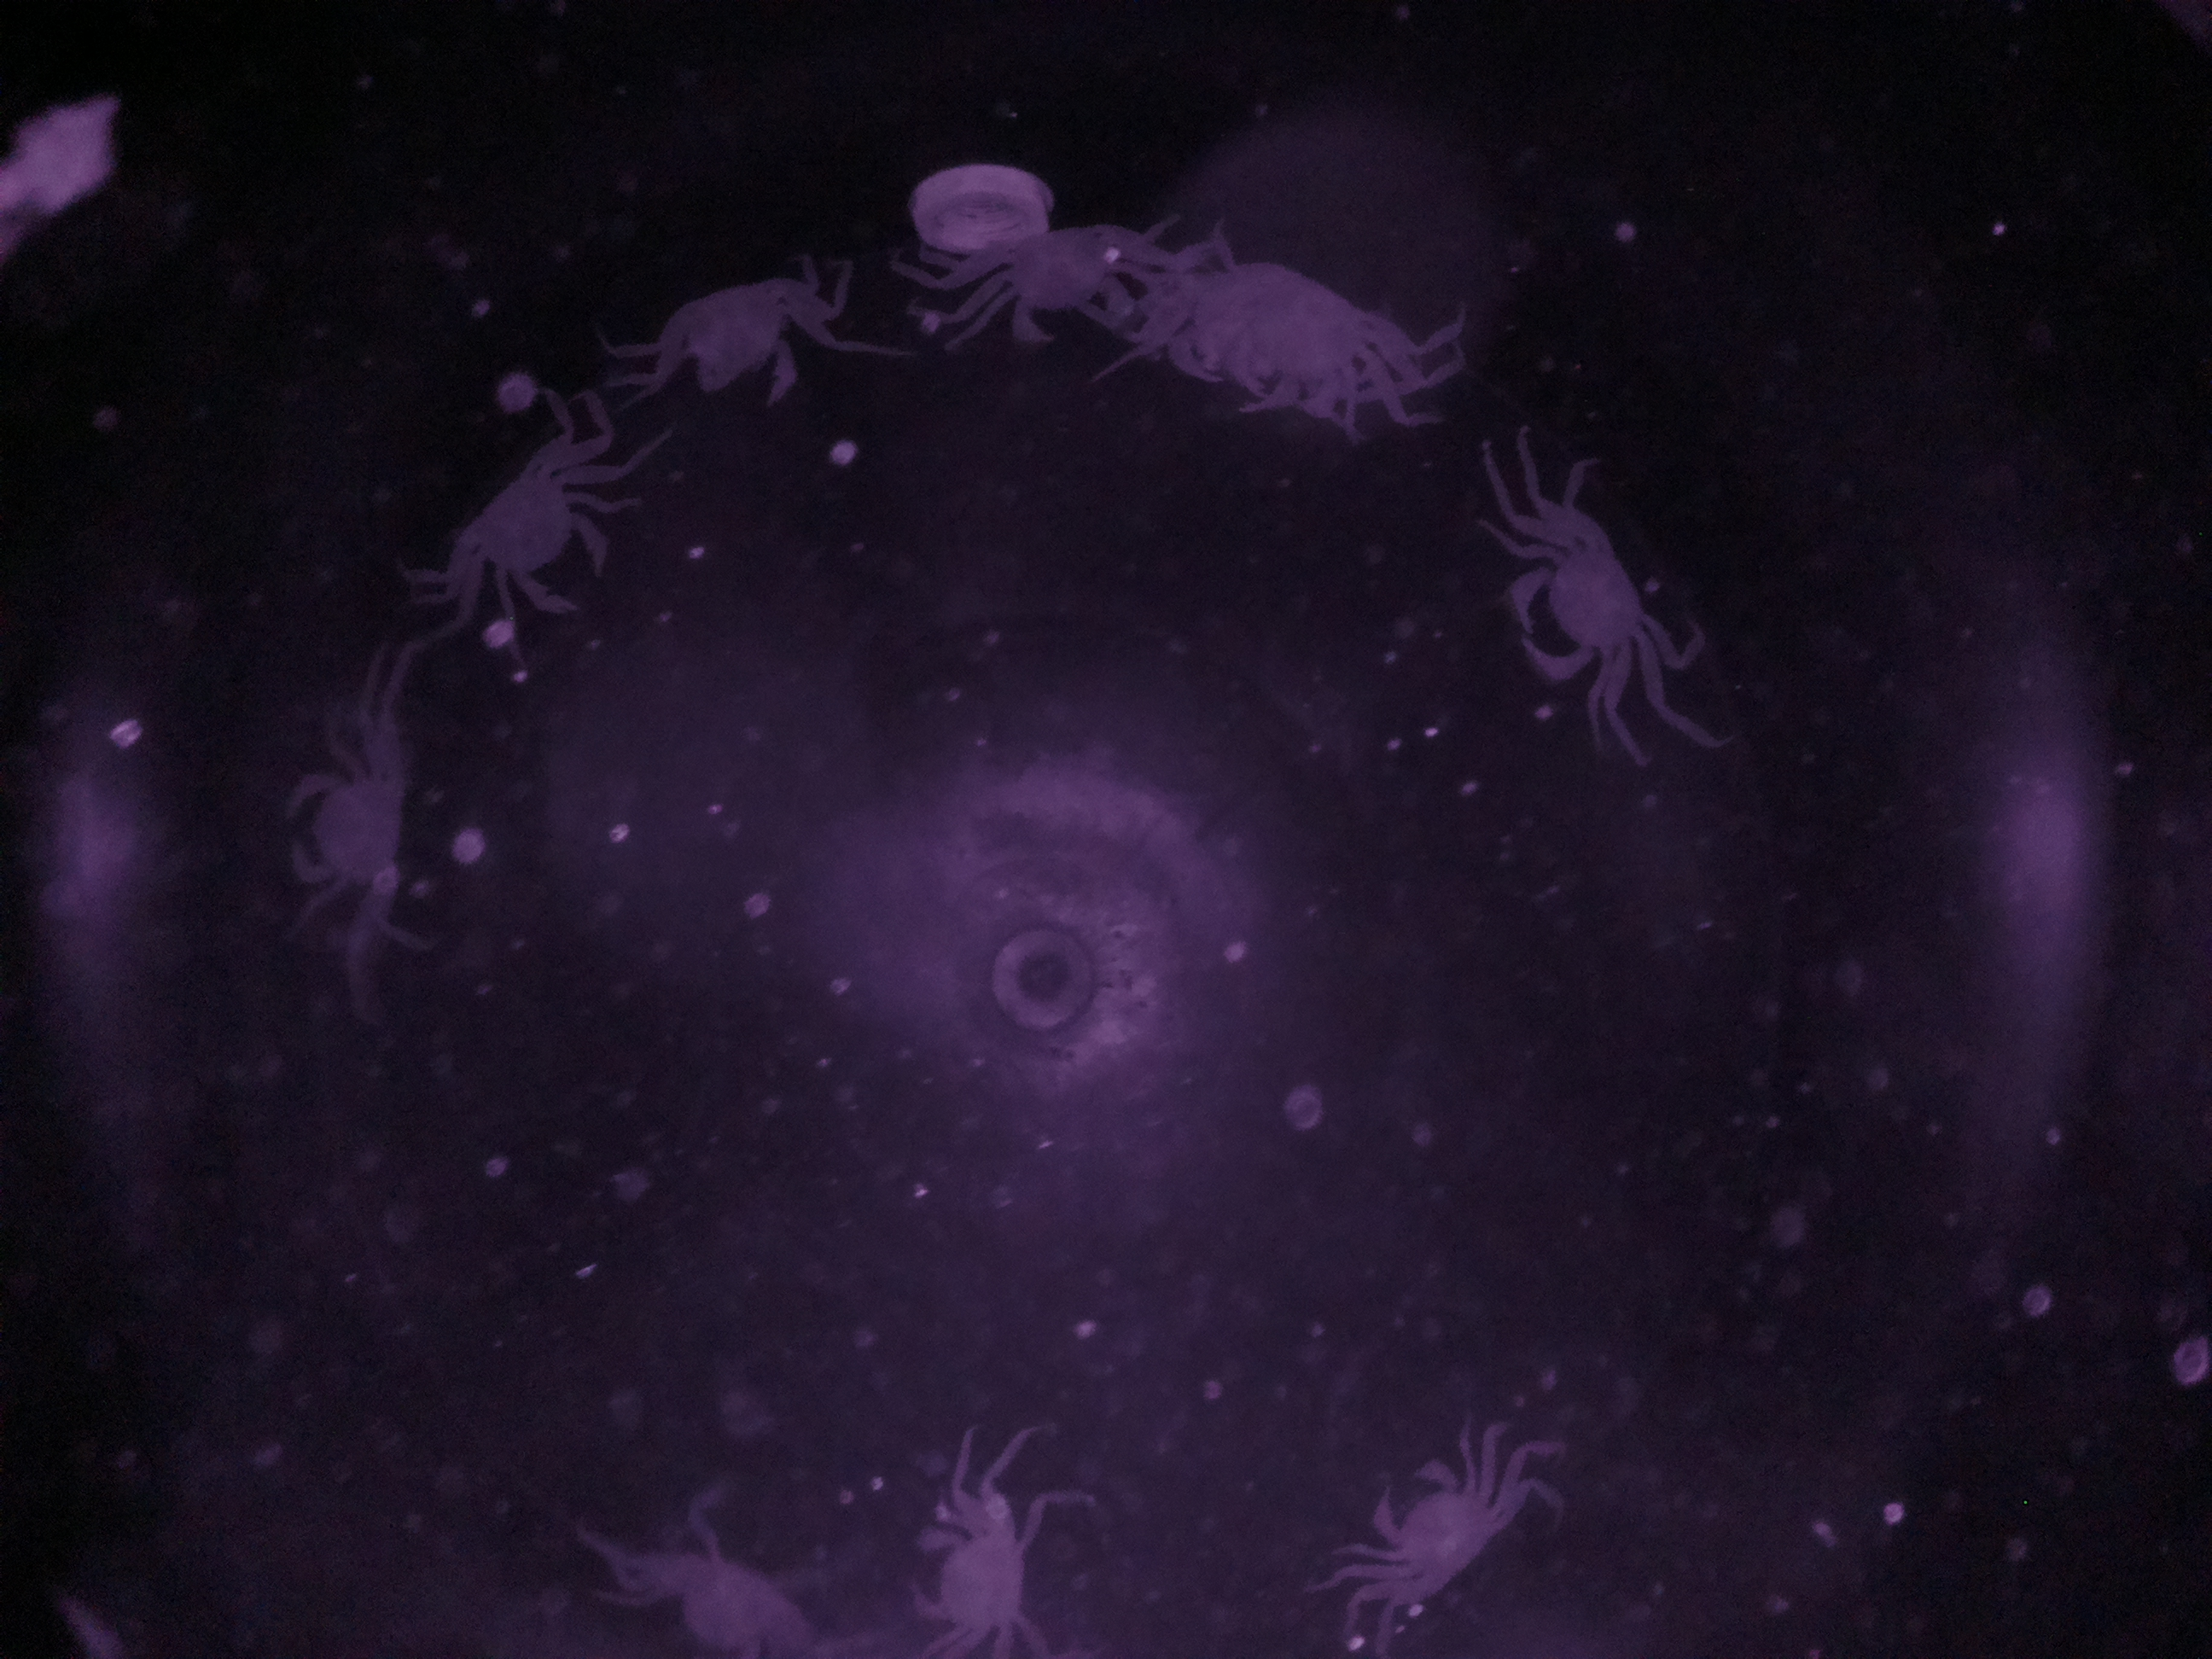Crab: (432, 425, 648, 638), (1325, 1439, 1536, 1626), (1500, 500, 1670, 720), (263, 711, 430, 927), (958, 202, 1157, 369), (902, 1485, 1045, 1659)
